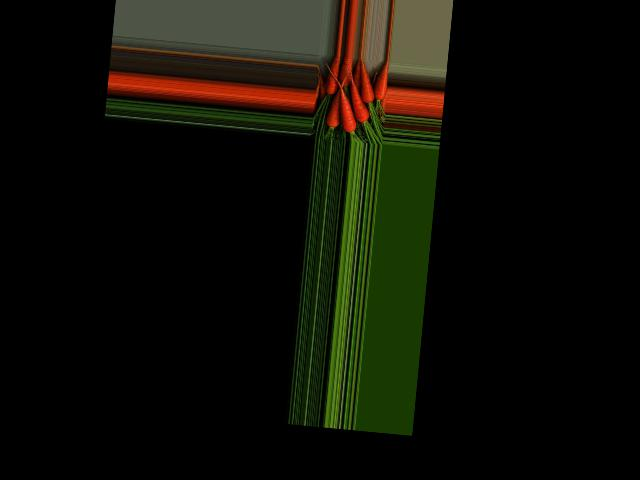carrot: (377, 59, 388, 101)
